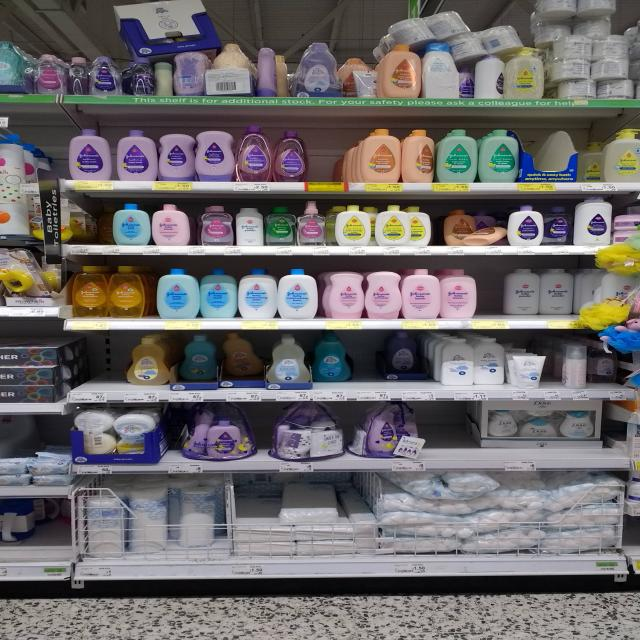void: (422, 400, 480, 472), (36, 498, 80, 580), (308, 119, 354, 196), (556, 120, 603, 192), (73, 332, 128, 388), (521, 123, 549, 194), (474, 263, 502, 330), (353, 332, 380, 401)
